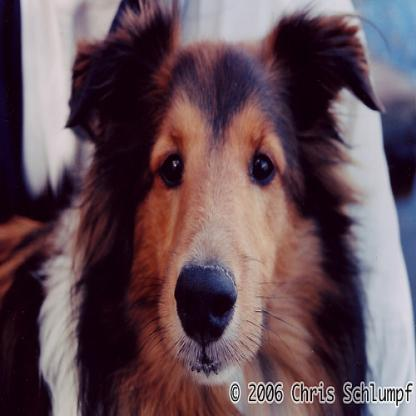Shetland_sheepdog: (0, 0, 391, 411)
